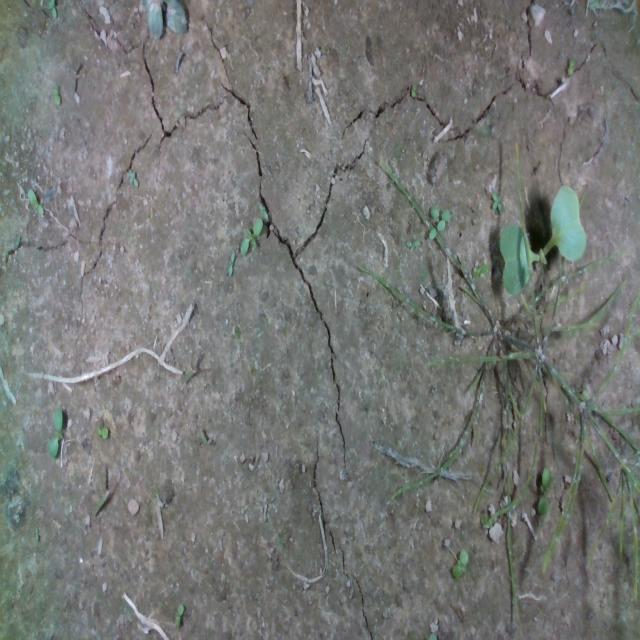weed: (24, 184, 48, 228), (51, 405, 65, 458), (449, 544, 469, 580), (50, 82, 68, 120), (93, 420, 113, 442), (487, 185, 501, 214), (225, 247, 235, 284), (126, 164, 139, 186)
